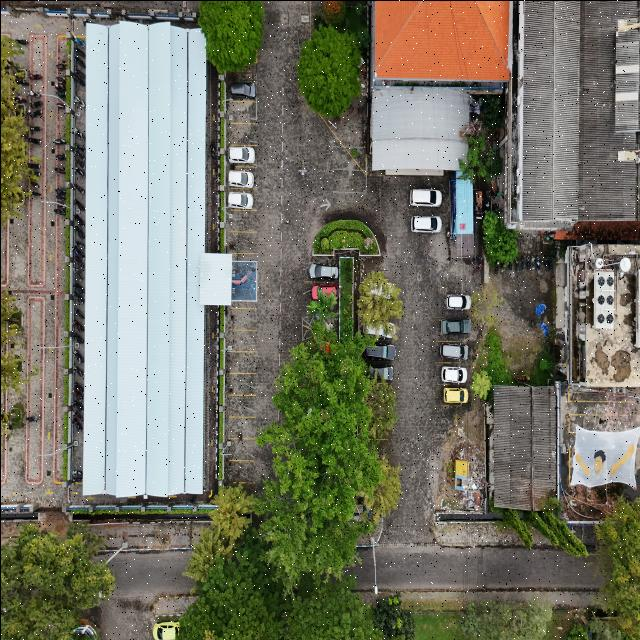Tree: (290, 16, 370, 122), (589, 490, 640, 636), (195, 1, 268, 78), (352, 267, 407, 343), (205, 478, 257, 552), (476, 211, 522, 267)
